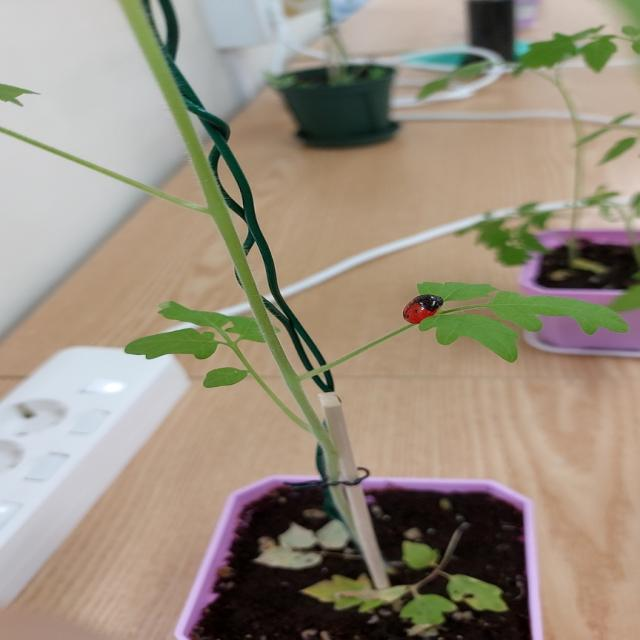bug: (384, 282, 471, 335)
